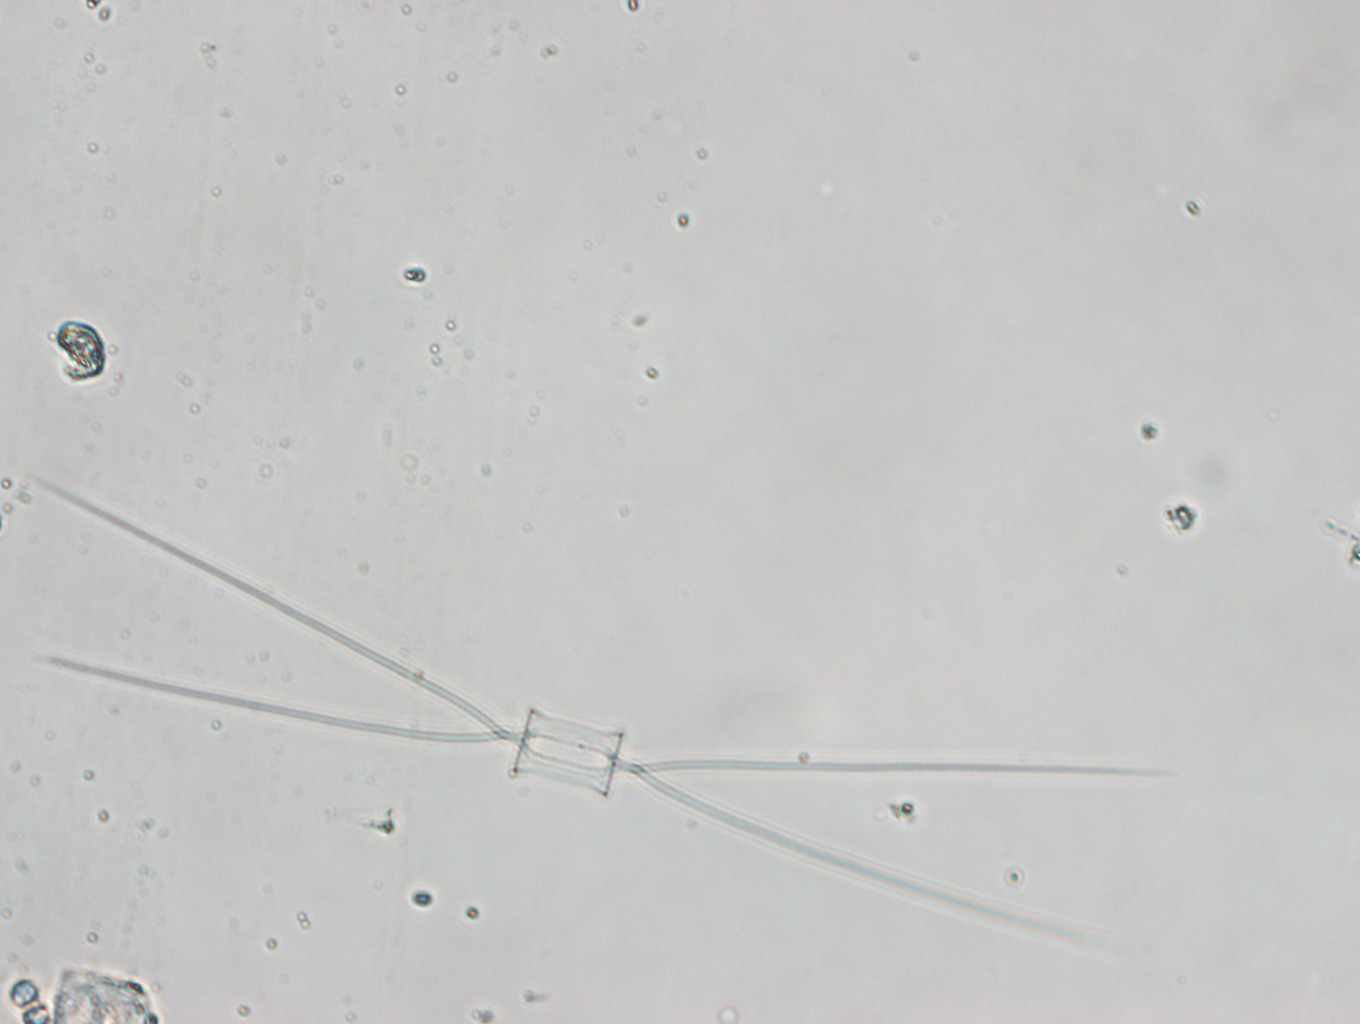chaetoceros: (18, 472, 1147, 952)
